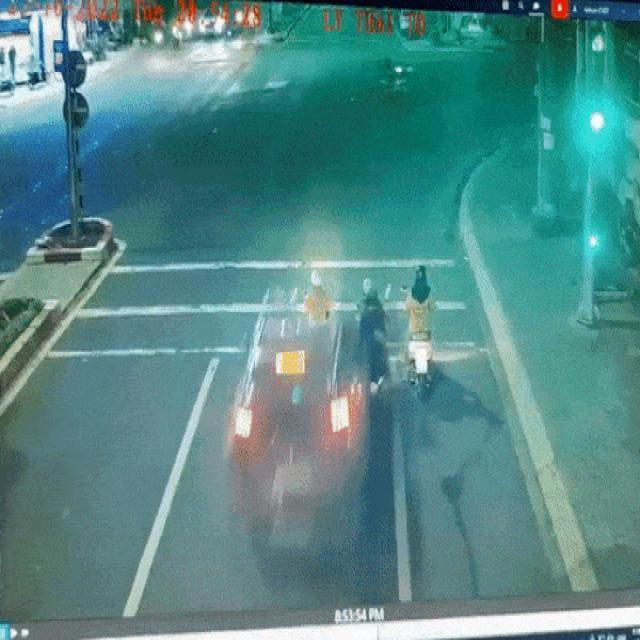multiple_accident: (212, 252, 446, 576)
